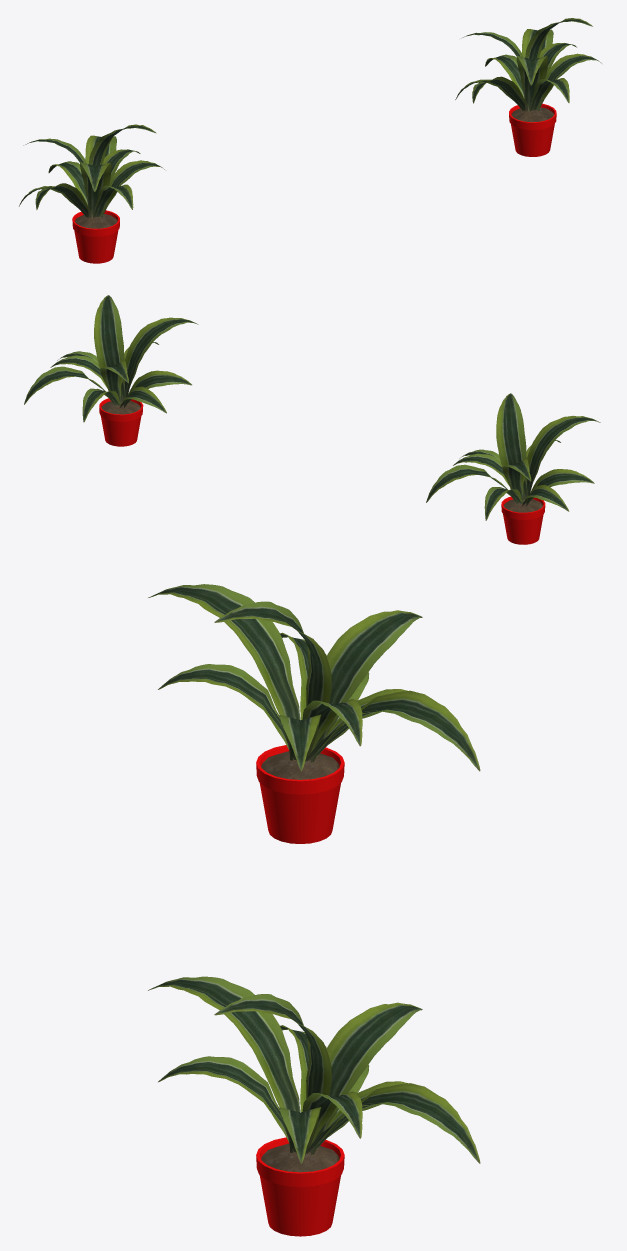
File: indoor_plant_v01_opt.glb
3 renders of one model, top to bottom at view 1: azimuth 30°, elevation 25°; view 2: azimuth 150°, elevation 25°; view 3: azimuth 270°, elevation 25°, orthographic. The views are drawn at different scales.
Visible parts, largest first — view 1: Plant2_Selectable, Plant1_Selectable; view 2: Plant1_Selectable, Plant2_Selectable; view 3: Plant1_Selectable, Plant2_Selectable.
Part boxes in pixels (<box>): Plant2_Selectable: <box>19,124,164,263</box>; Plant1_Selectable: <box>455,18,601,156</box>; Plant1_Selectable: <box>24,295,198,446</box>; Plant2_Selectable: <box>426,393,600,544</box>; Plant1_Selectable: <box>148,976,480,1236</box>; Plant2_Selectable: <box>148,584,480,843</box>.
Size of the model in its own units: 3.91 by 0.8725 by 1.19.
Materials: 2 (2 with a texture image).
